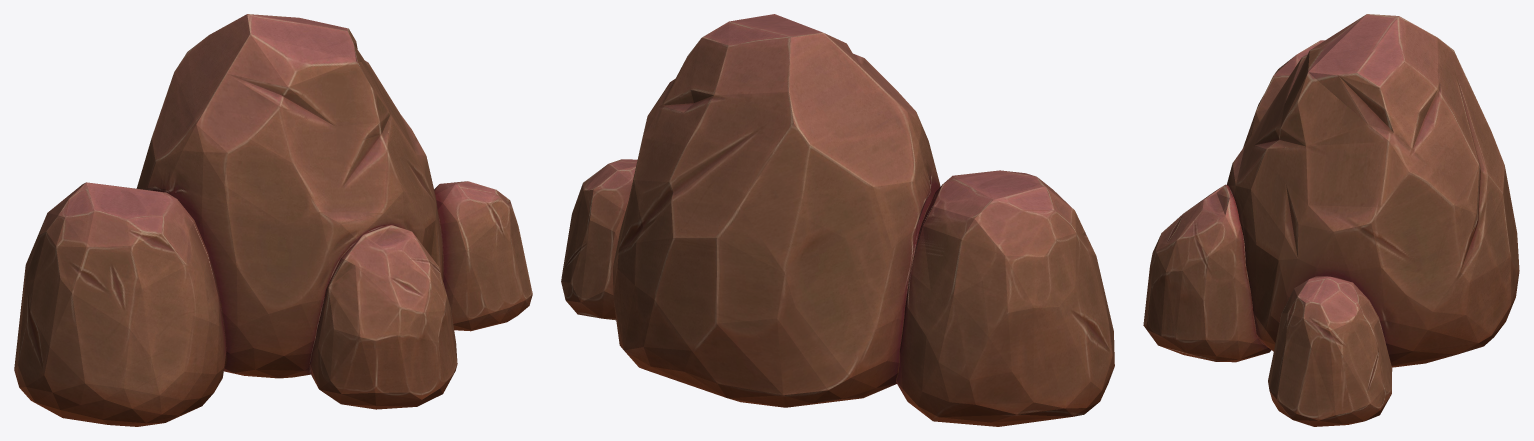
The model's file is basic_rock_low_poly.glb.
The picture shows the model from 3 angles, left to right: view 1: azimuth 30°, elevation 25°; view 2: azimuth 150°, elevation 25°; view 3: azimuth 270°, elevation 25°; orthographic projection. The views are drawn at different scales.
Parts seen in each view (by area): view 1: Group21933; view 2: Group21933; view 3: Group21933.
Part boxes in pixels (x1,y1,x2,y2): Group21933: (14,14,532,426); Group21933: (561,14,1114,426); Group21933: (1143,14,1519,426).
Size of the model in its own units: 2 by 1.26 by 1.37.
1 material, 1 textured.
